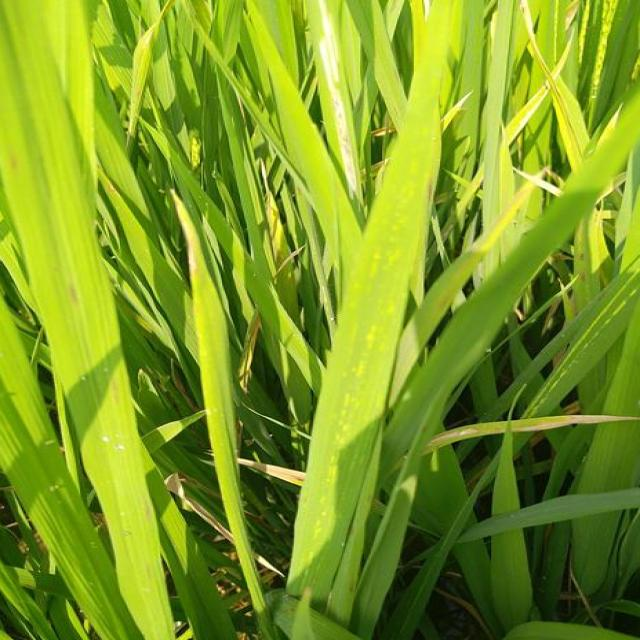Leaf Streak: (316, 59, 446, 543), (316, 0, 361, 201), (512, 415, 640, 434), (426, 422, 508, 449)
